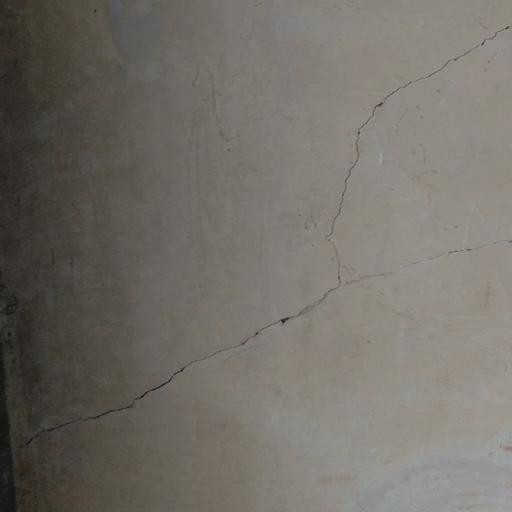minor_crack: (10, 12, 512, 454)
